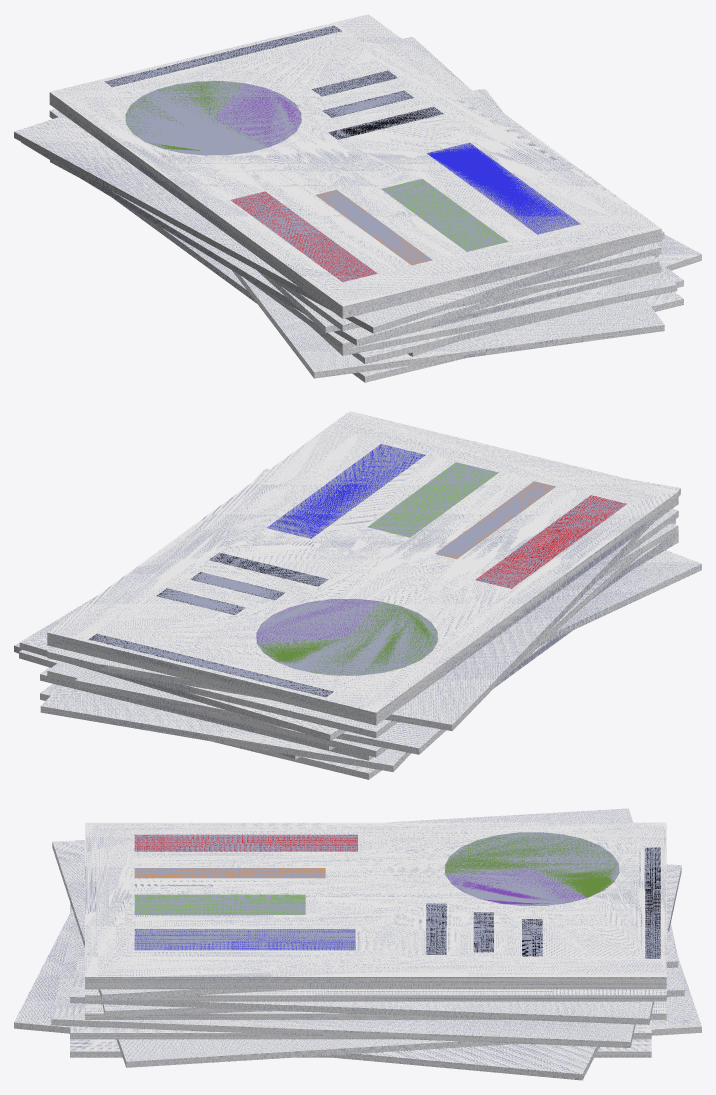
Rendered from PaperWork.fbx.
The picture shows the model from 3 angles, top to bottom: view 1: azimuth 30°, elevation 25°; view 2: azimuth 150°, elevation 25°; view 3: azimuth 270°, elevation 25°; orthographic projection. The views are drawn at different scales.
Visible parts, largest first — view 1: Group12, Group10, Group2, Group5, Group11, Group7, Group8, Group6, Group1, Group9, Group4, Group3; view 2: Group12, Group10, Group3, Group7, Group11, Group9, Group2, Group8, Group6, Group1, Group4, Group5; view 3: Group12, Group5, Group8, Group2, Group3, Group9, Group10, Group11, Group4, Group6, Group7, Group1.
Boxes of the visible parts, left/top/right/bottom form: Group12: left=49, top=14, right=661, bottom=312; Group10: left=14, top=115, right=664, bottom=333; Group2: left=232, top=89, right=664, bottom=378; Group5: left=311, top=271, right=677, bottom=355; Group11: left=49, top=98, right=661, bottom=318; Group7: left=21, top=142, right=658, bottom=345; Group8: left=257, top=36, right=659, bottom=332; Group6: left=245, top=265, right=661, bottom=349; Group1: left=113, top=198, right=683, bottom=382; Group9: left=49, top=109, right=661, bottom=331; Group4: left=352, top=263, right=683, bottom=363; Group3: left=50, top=160, right=701, bottom=356; Group12: left=47, top=411, right=678, bottom=718; Group10: left=100, top=479, right=680, bottom=731; Group3: left=40, top=468, right=410, bottom=772; Group7: left=75, top=519, right=675, bottom=754; Group11: left=47, top=498, right=678, bottom=725; Group9: left=47, top=509, right=678, bottom=737; Group2: left=14, top=550, right=701, bottom=759; Group8: left=19, top=523, right=678, bottom=740; Group6: left=47, top=530, right=678, bottom=757; Group1: left=40, top=630, right=572, bottom=779; Group4: left=40, top=667, right=373, bottom=760; Group5: left=19, top=536, right=678, bottom=750; Group12: left=85, top=822, right=666, bottom=982; Group5: left=51, top=915, right=635, bottom=1047; Group8: left=70, top=864, right=681, bottom=1024; Group2: left=14, top=913, right=599, bottom=1080; Group3: left=116, top=957, right=701, bottom=1067; Group9: left=85, top=989, right=666, bottom=1001; Group10: left=52, top=808, right=678, bottom=1000; Group11: left=85, top=983, right=666, bottom=989; Group4: left=70, top=902, right=651, bottom=1039; Group6: left=85, top=1001, right=666, bottom=1019; Group7: left=102, top=923, right=684, bottom=1017; Group1: left=70, top=1039, right=651, bottom=1057.
Size of the model in its own units: 0.7589 by 0.12 by 1.02.
